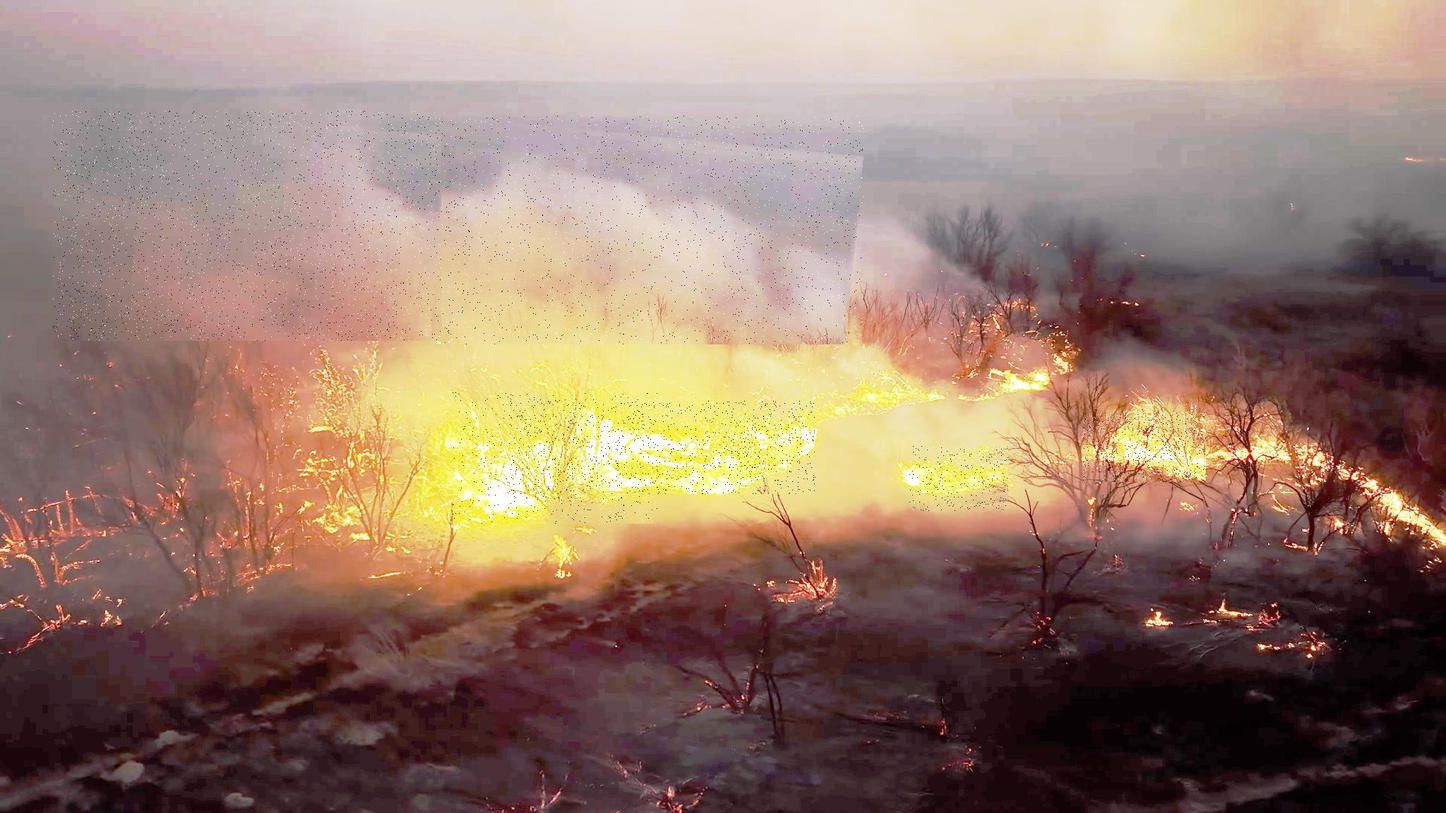fire: (510, 401, 815, 494), (453, 392, 657, 524), (1083, 413, 1206, 482), (909, 446, 1008, 511)
smoke: (441, 116, 864, 344), (52, 111, 446, 341)
